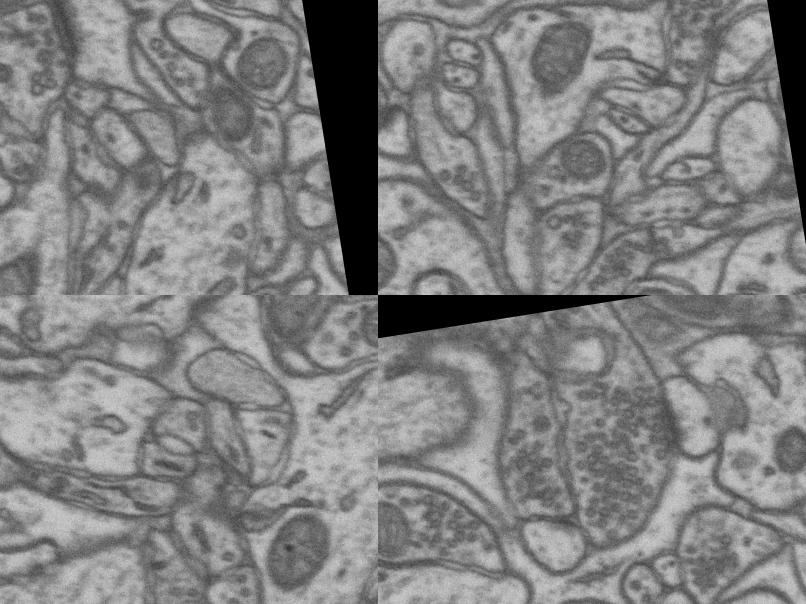mitochondria: (598, 295, 772, 358), (250, 501, 347, 604), (523, 0, 624, 84), (235, 295, 377, 354), (736, 132, 803, 235), (539, 130, 611, 217), (671, 496, 750, 570), (198, 76, 266, 156), (227, 26, 297, 102), (378, 489, 422, 571), (0, 240, 62, 295), (760, 406, 806, 476), (378, 212, 409, 295), (701, 271, 796, 295), (725, 295, 806, 322), (349, 295, 378, 360), (731, 0, 770, 27)
